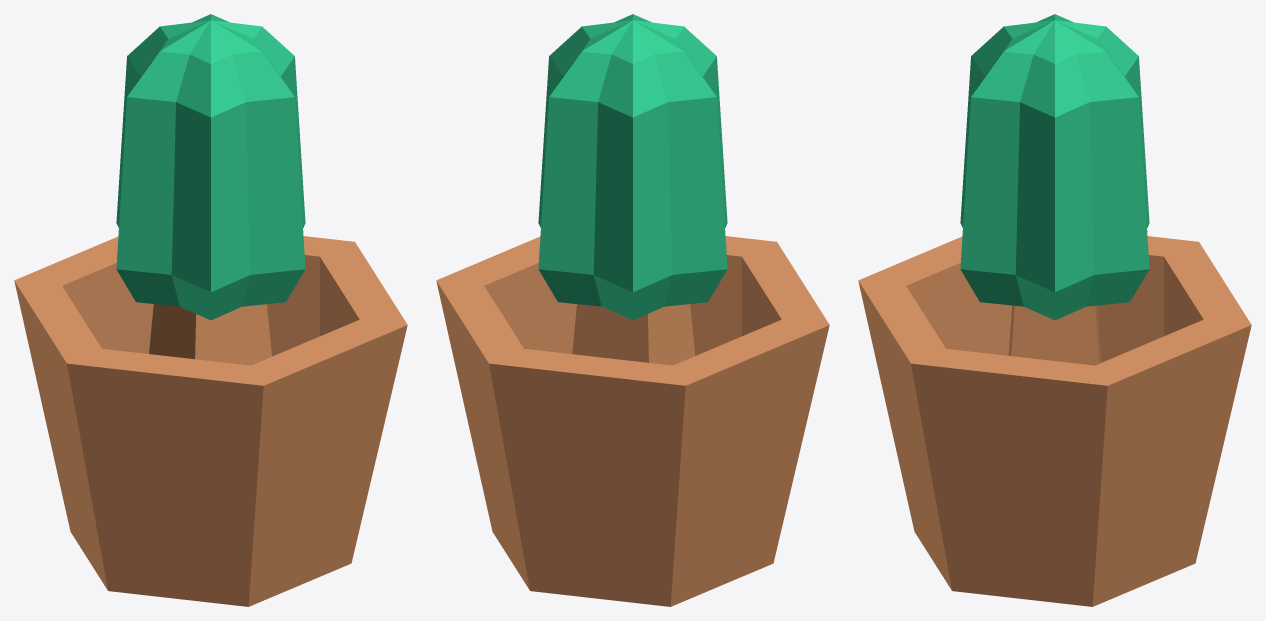
The model's file is plantSmall2.glb.
3 renders of one model, left to right at view 1: azimuth 30°, elevation 25°; view 2: azimuth 150°, elevation 25°; view 3: azimuth 270°, elevation 25°, orthographic.
Parts seen in each view (by area): view 1: plantSmall2; view 2: plantSmall2; view 3: plantSmall2.
Boxes of the visible parts, x1,y1,x2,y2 form: plantSmall2: (14, 14, 407, 606); plantSmall2: (436, 14, 829, 606); plantSmall2: (858, 14, 1251, 606).
Size of the model in its own units: 0.1893 by 0.28 by 0.1893.
